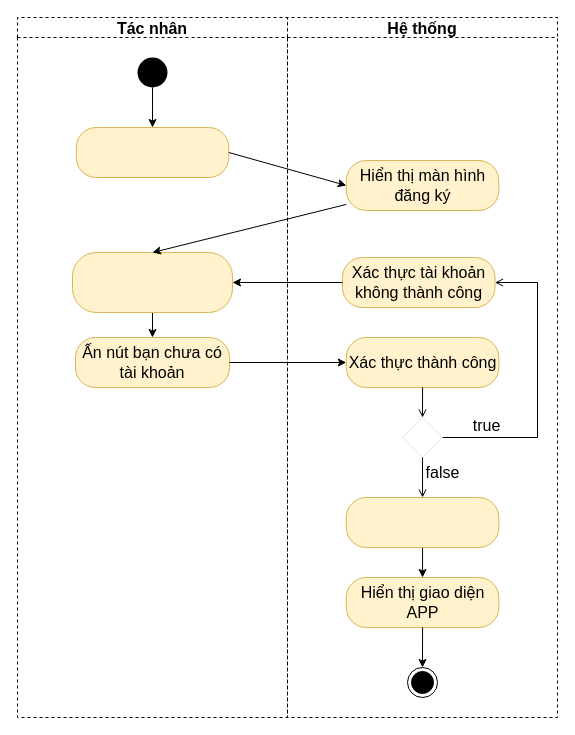
This 575x735 diagram has some shape labels left out. Each missing label, with the centre of its shape:
"Nhập gmail và mật khẩu" goes at [152,282].
"Yêu cầu đăng ký" goes at [152,152].
"Đăng ký thành công" goes at [422,522].
